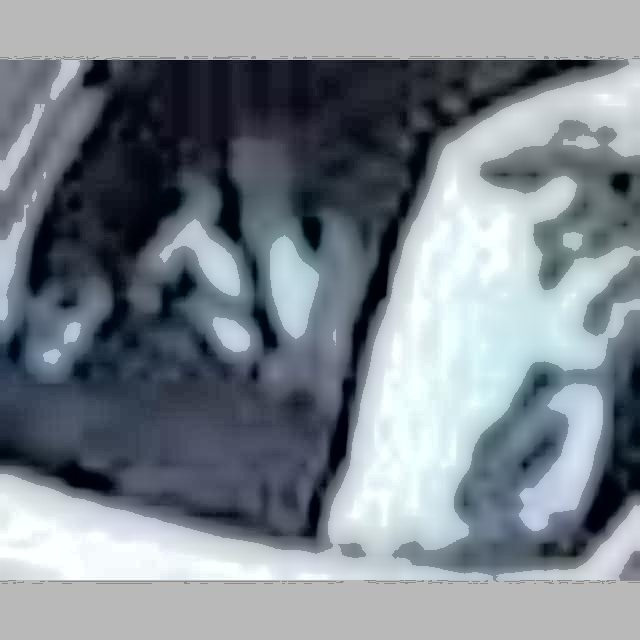pakai: (140, 140, 340, 420)
